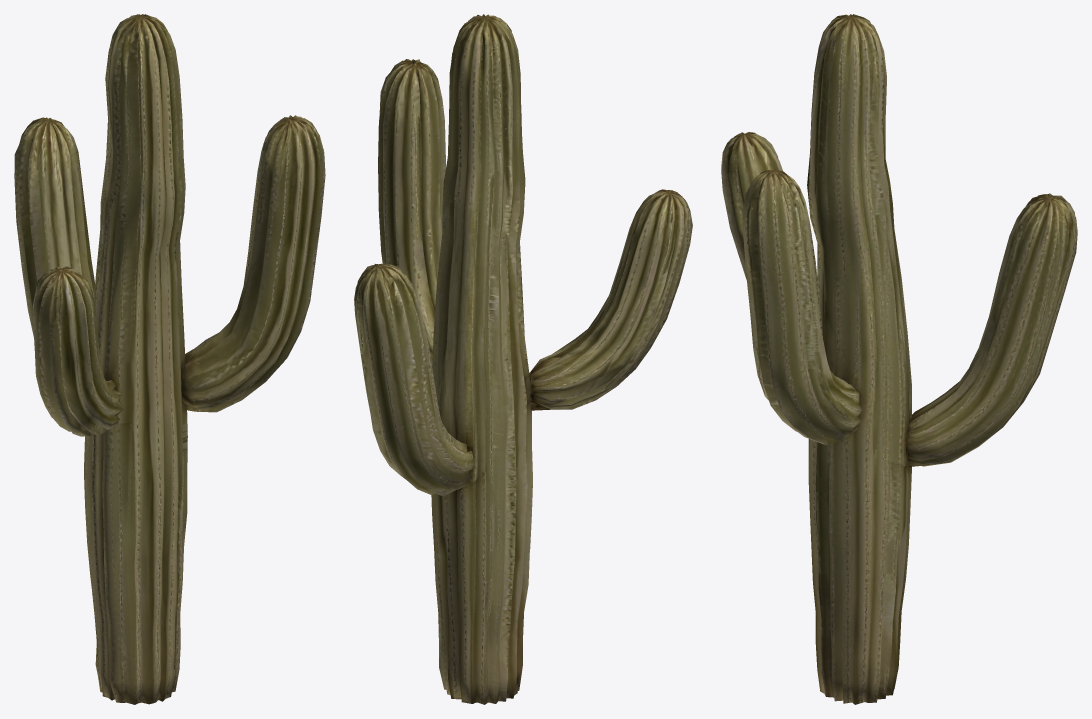
The model's file is original_glb.glb.
The picture shows the model from 3 angles, left to right: view 1: azimuth 30°, elevation 25°; view 2: azimuth 150°, elevation 25°; view 3: azimuth 270°, elevation 25°; orthographic projection.
Visible parts, largest first — view 1: saguaro cactus; view 2: saguaro cactus; view 3: saguaro cactus.
Part boxes in pixels (<box>): saguaro cactus: <box>14,14,325,704</box>; saguaro cactus: <box>354,14,692,704</box>; saguaro cactus: <box>721,14,1077,704</box>.
Size of the model in its own units: 0.4551 by 0.998 by 0.4785.
Materials: 1 (1 with a texture image).
